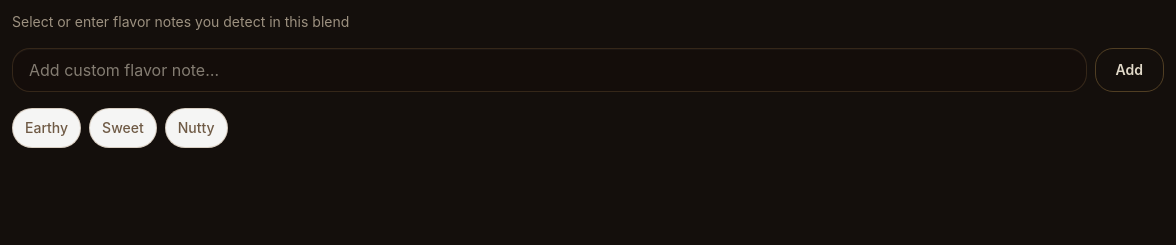
Test: FlavorProfileField › keeps predefined chips working
Click the button with aria-label "Toggle Earthy flavor note" at (47, 128), box [12,108,81,148]
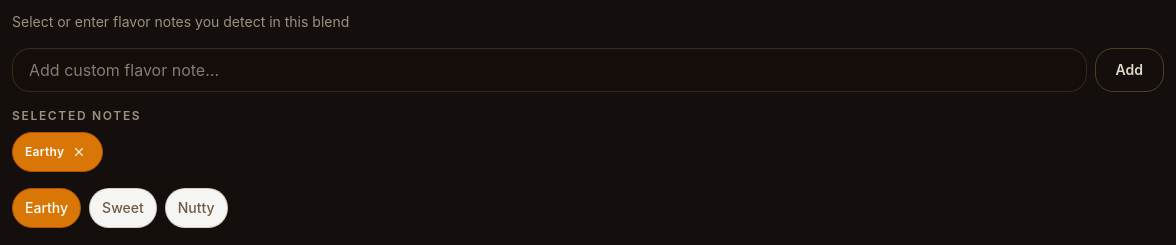
Now the button named "Remove flavor note Earthy" is shown, box [68,141,90,163]
